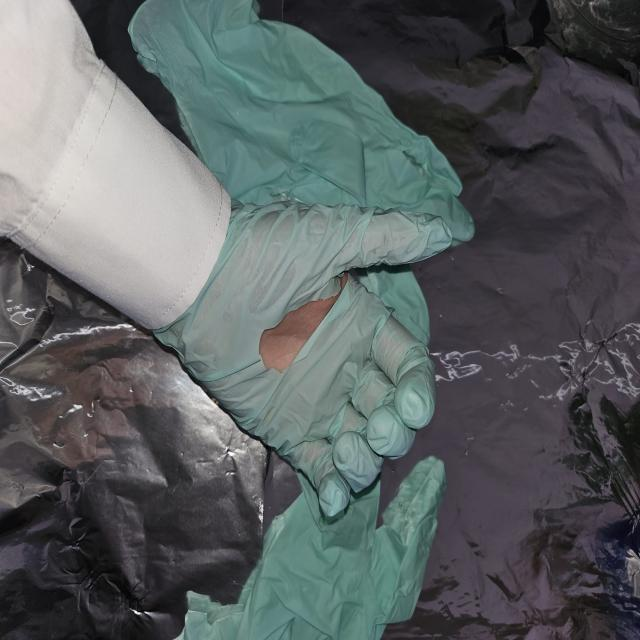gloves_damaged: (152, 201, 452, 516)
